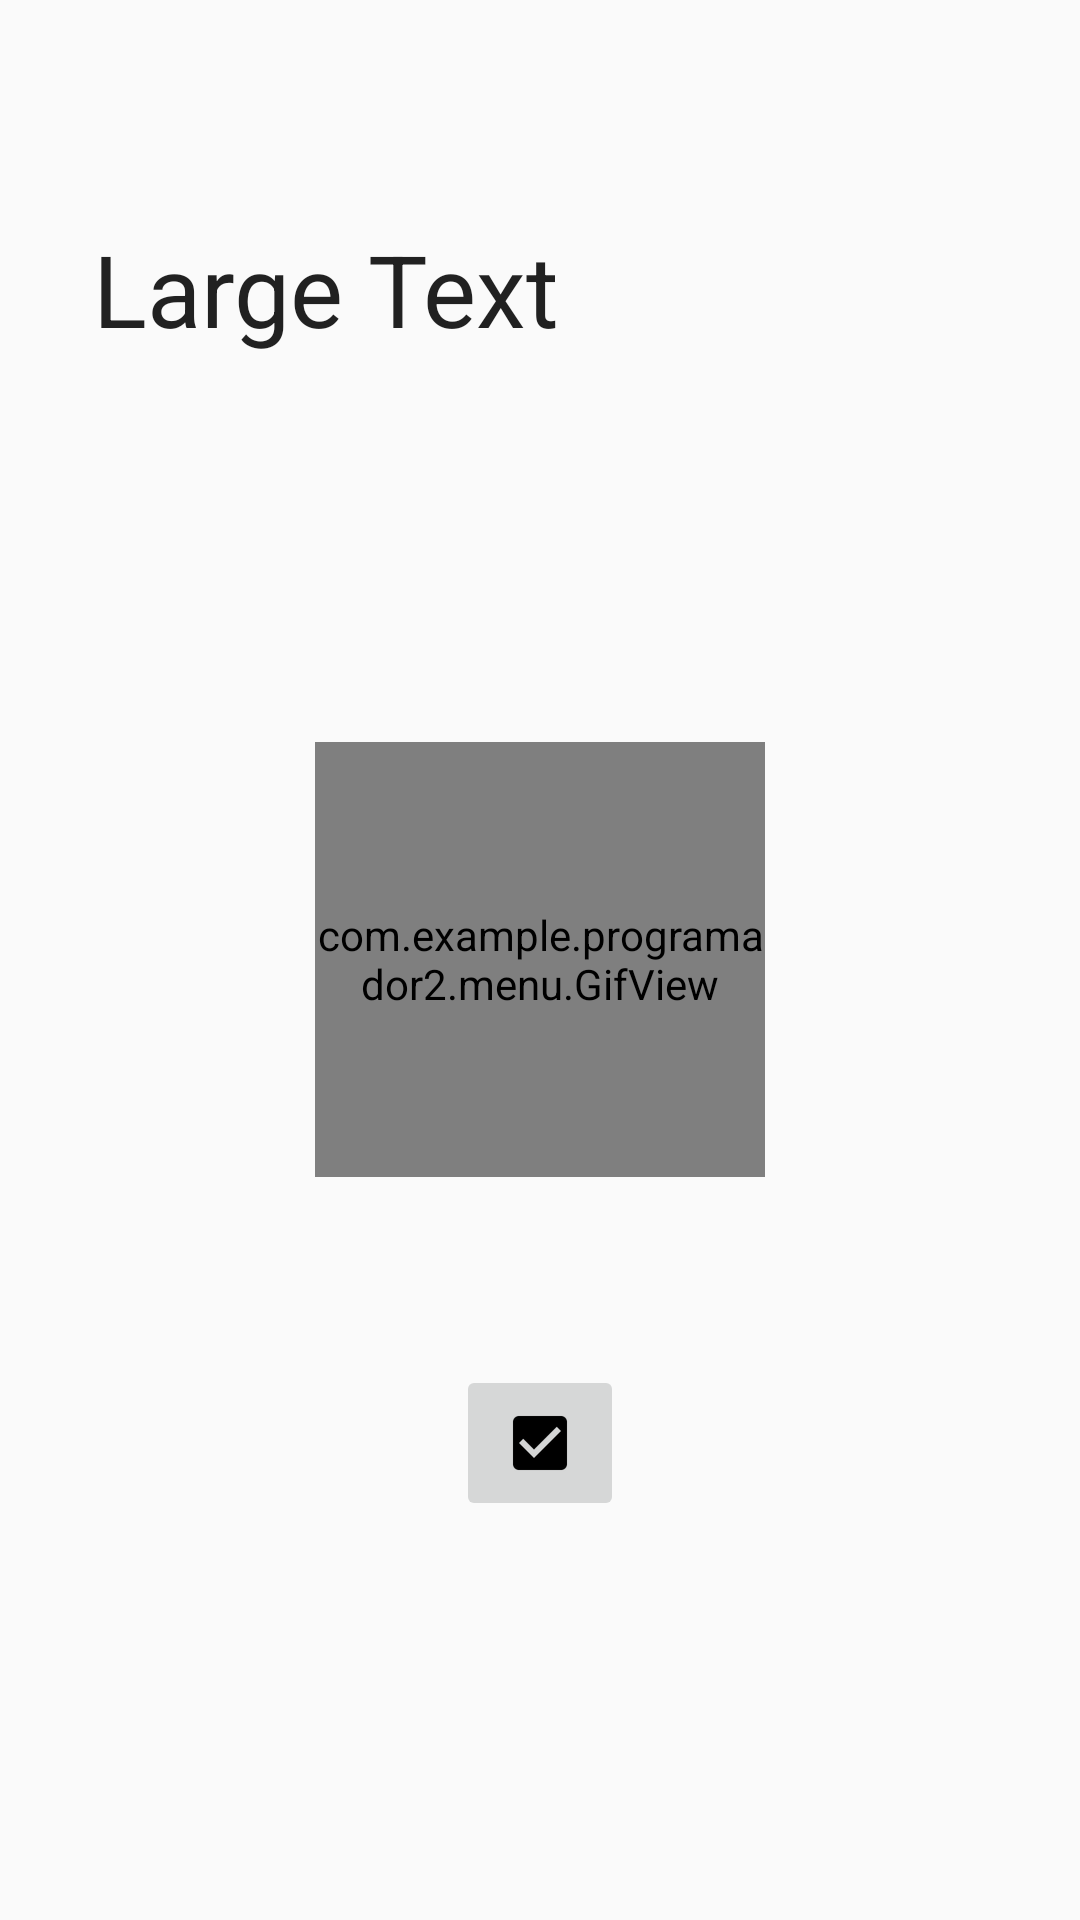

Screen size 1080px x 1920px. Icon name, then its box in pixels as (x1, y1, x2, y2):
check to on: (468, 1383, 612, 1503)
